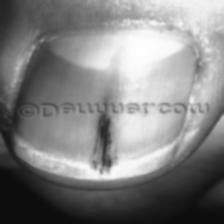Toxin: (2, 29, 206, 185)
